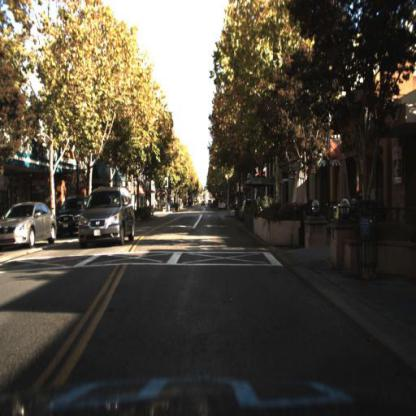car: (77, 185, 136, 253), (77, 183, 137, 247), (1, 202, 61, 251)
